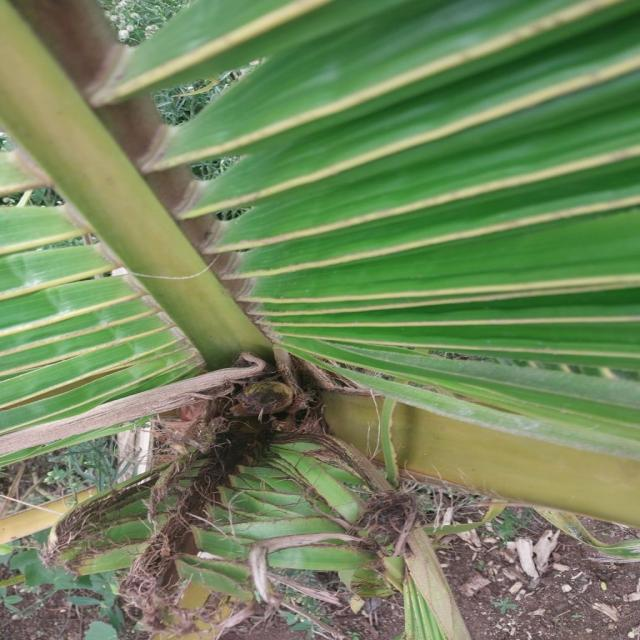bud rot: (47, 372, 468, 640)
